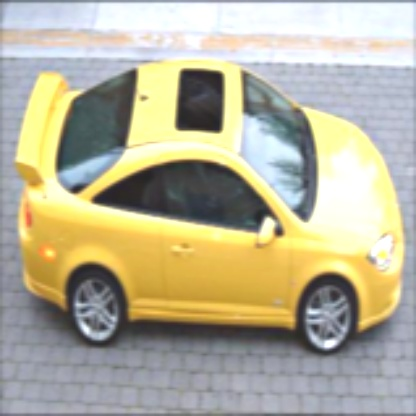Vehicle: (15, 61, 405, 360)
